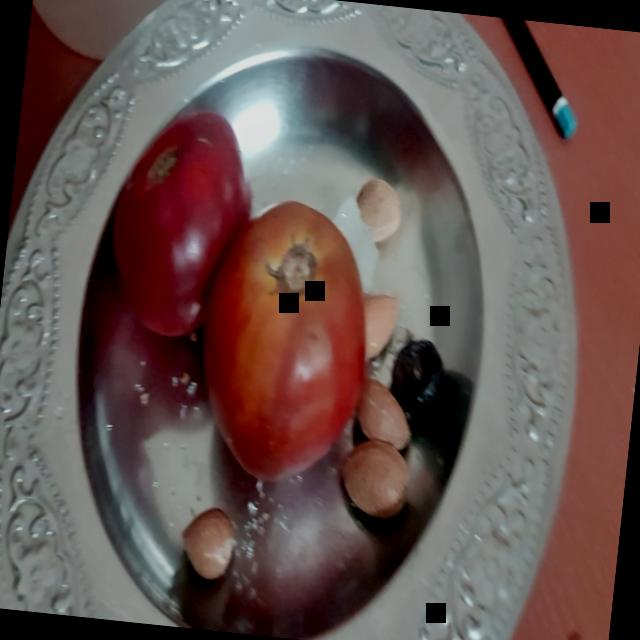tomato: (187, 190, 392, 496), (98, 102, 264, 357)
